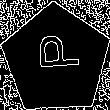P_W: (30, 40, 82, 80)
